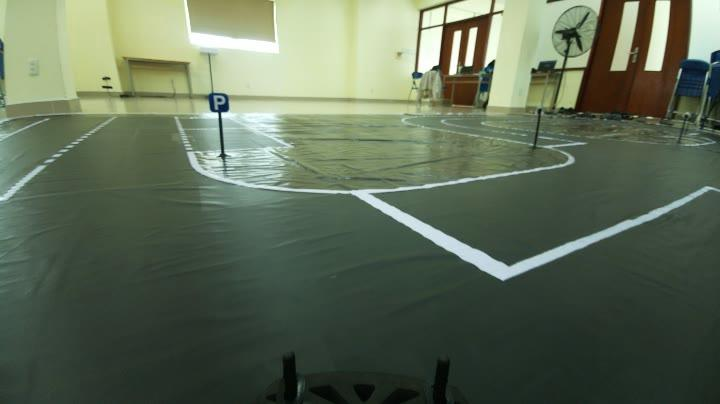parking: (201, 84, 236, 120)
